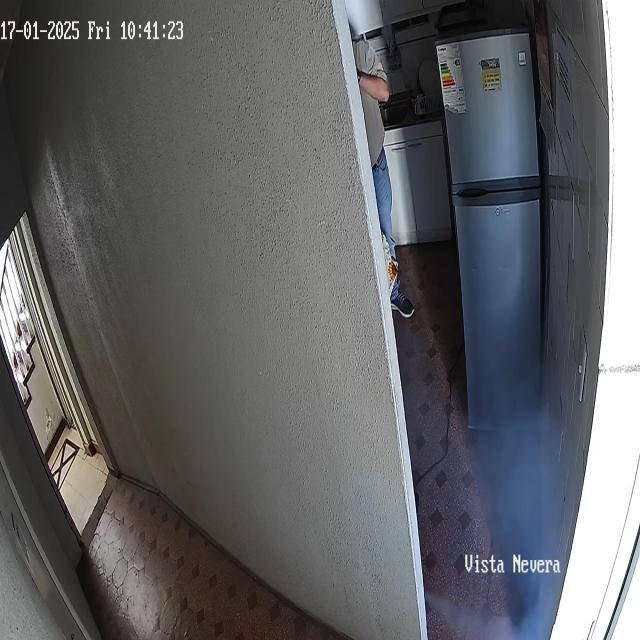smoke: (408, 326, 569, 639)
